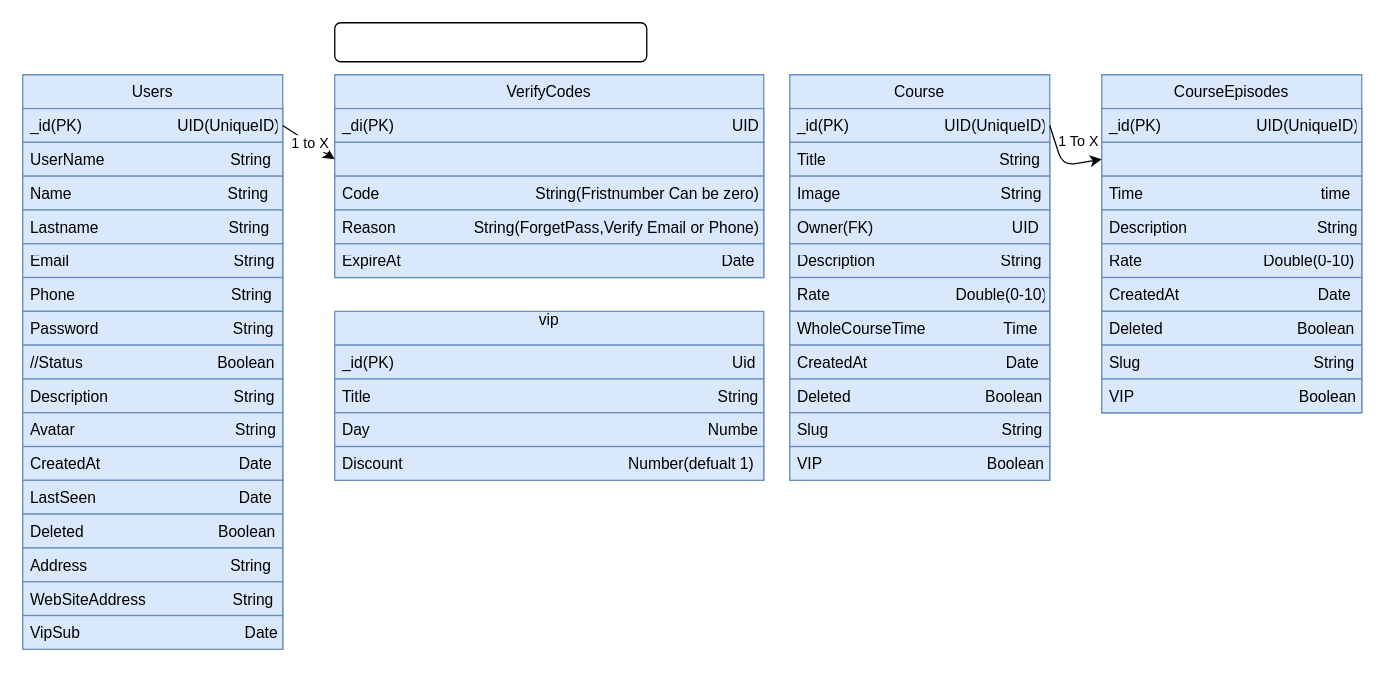
Some shapes in this 1385 by 676 pixel diagram are drawn without their labels. The centre of each missing label's shape, as x and y in pixels:
"Course(FK) UID(UniqueID)" goes at point 1231,158.
"SqlServer2017" goes at point 490,41.
"User(FK) UID" goes at point 548,158.
